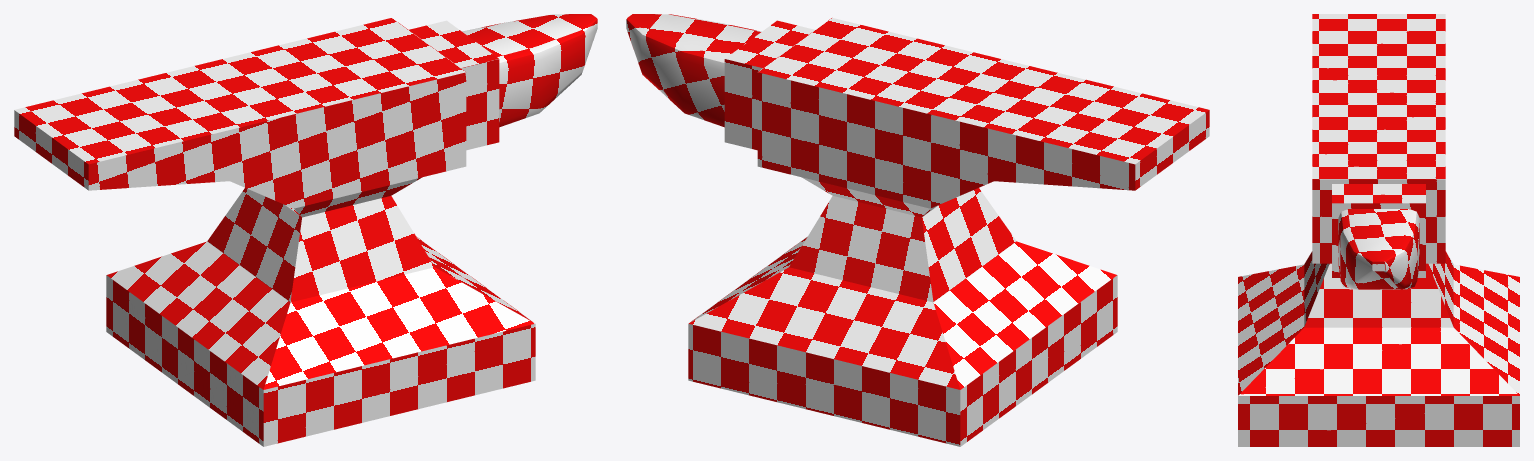
File: anvil.dae
3 views of the same model, side by side, from view 1: azimuth 30°, elevation 25°; view 2: azimuth 150°, elevation 25°; view 3: azimuth 270°, elevation 25° (orthographic). The views are drawn at different scales.
Visible parts, largest first — view 1: Cube; view 2: Cube; view 3: Cube.
Part boxes in pixels (x1,y1,x2,y2): Cube: [14, 14, 597, 446]; Cube: [626, 14, 1209, 446]; Cube: [1238, 14, 1519, 446].
Size of the model in its own units: 0.9975 by 0.5 by 0.5004.
Materials: 1 (1 with a texture image).
